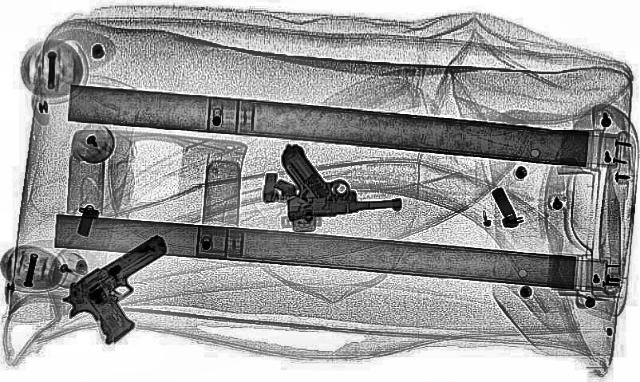Gun: (31, 232, 232, 346), (270, 138, 402, 220)
